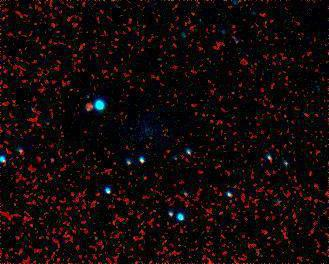star: (72, 92, 102, 122)
